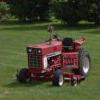Tractor: (18, 22, 96, 85)
